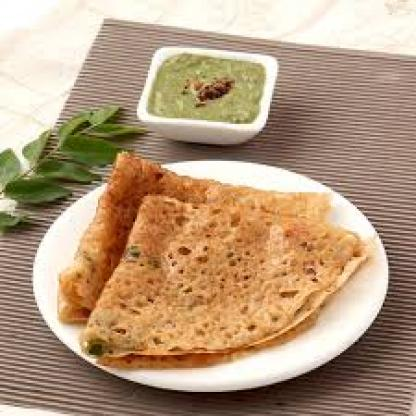dosa: (81, 194, 370, 369), (57, 151, 329, 321)
